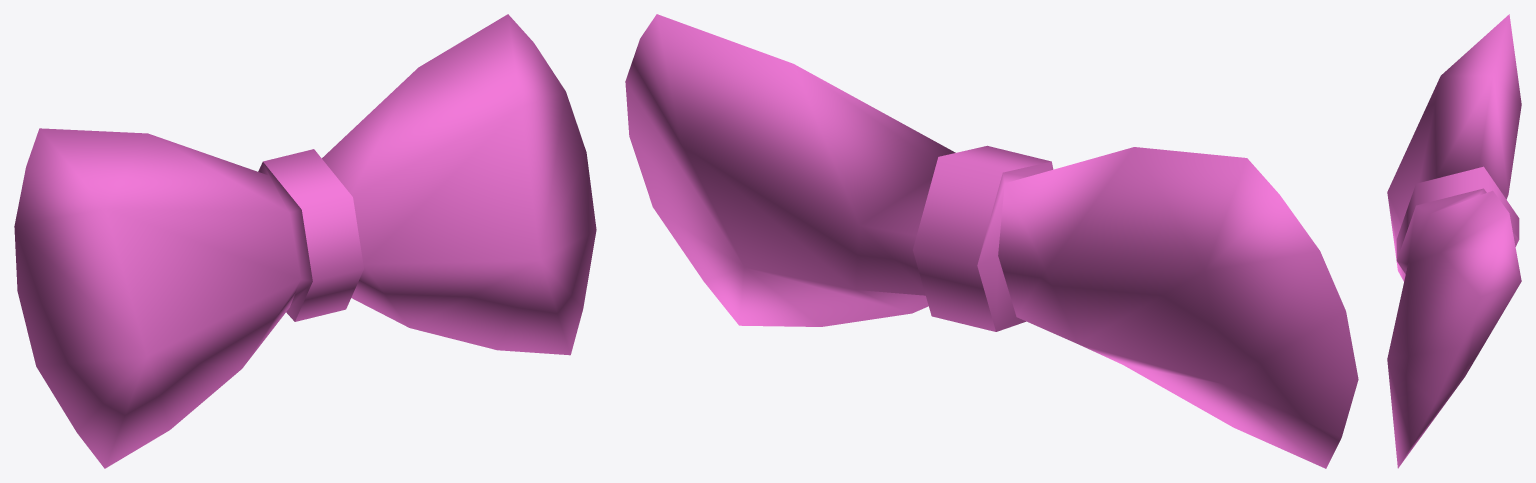
File: Bowtie.fbx
3 renders of one model, left to right at view 1: azimuth 30°, elevation 25°; view 2: azimuth 150°, elevation 25°; view 3: azimuth 270°, elevation 25°, orthographic. The views are drawn at different scales.
Visible parts, largest first — view 1: Bowtie; view 2: Bowtie; view 3: Bowtie.
Part boxes in pixels (x1,y1,x2,y2): Bowtie: (14, 14, 596, 468); Bowtie: (625, 14, 1358, 468); Bowtie: (1387, 14, 1521, 468).
Bounding box in the file's own units: 50.76 × 25.06 × 11.92.
